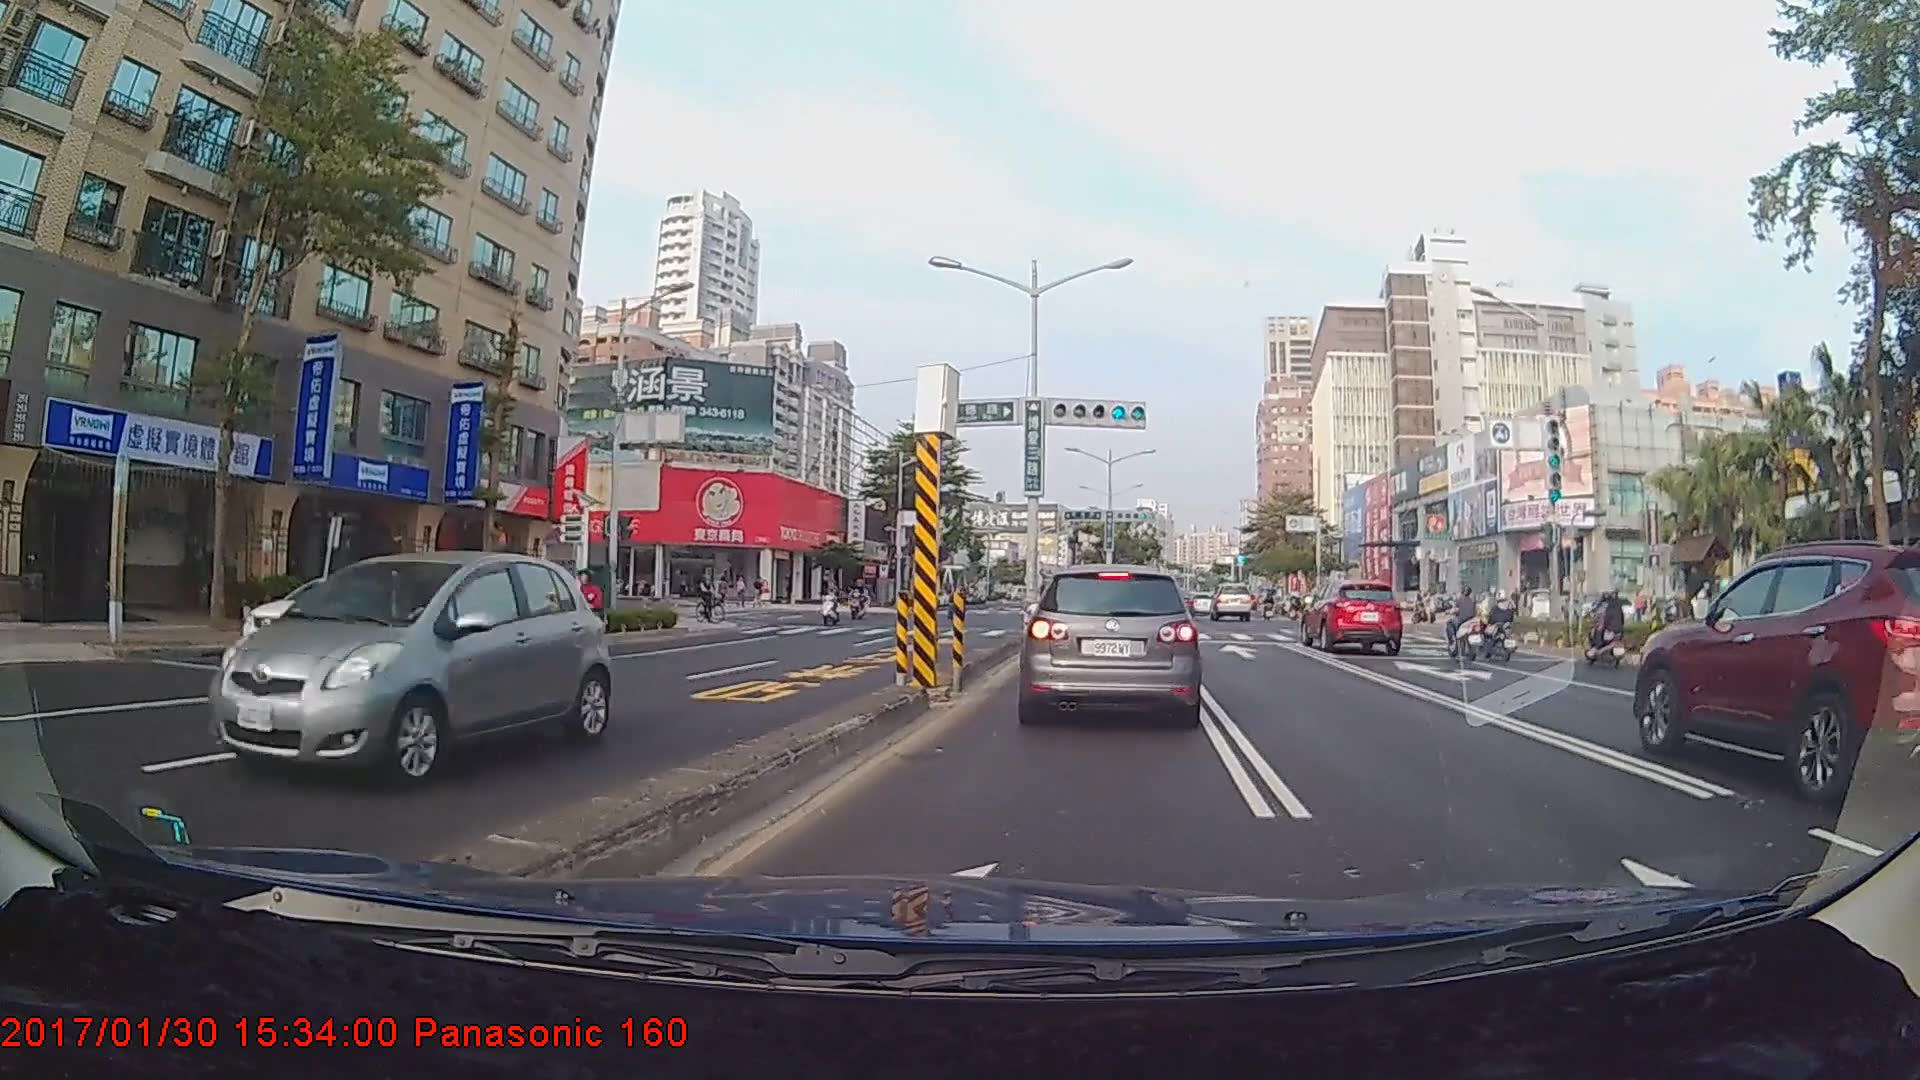rider: (1438, 584, 1493, 663), (1583, 590, 1637, 670), (1473, 585, 1525, 666), (684, 566, 724, 622)
vehicle: (207, 546, 608, 789), (1631, 536, 1917, 808), (1020, 561, 1201, 723), (1299, 575, 1406, 654), (1209, 583, 1252, 622)
